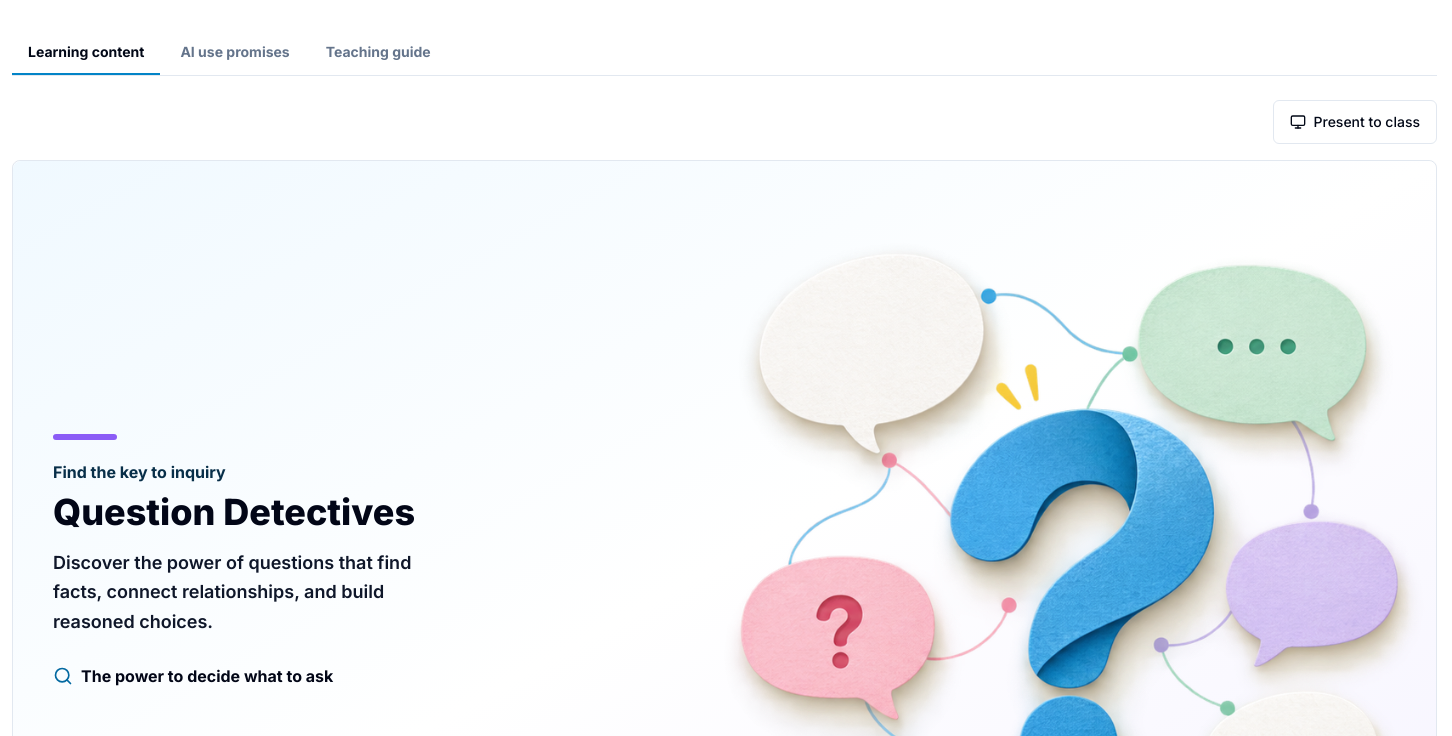
Scenario: 질문학습 슬라이드 › 영어 화면에서 여섯 수업 활용 항목의 제목과 본문을 영어로 표시한다
This screenshot has width=1452, height=736.
Click the tab "Teaching guide": click(378, 53) [310,31,447,75]
(page scrolled)
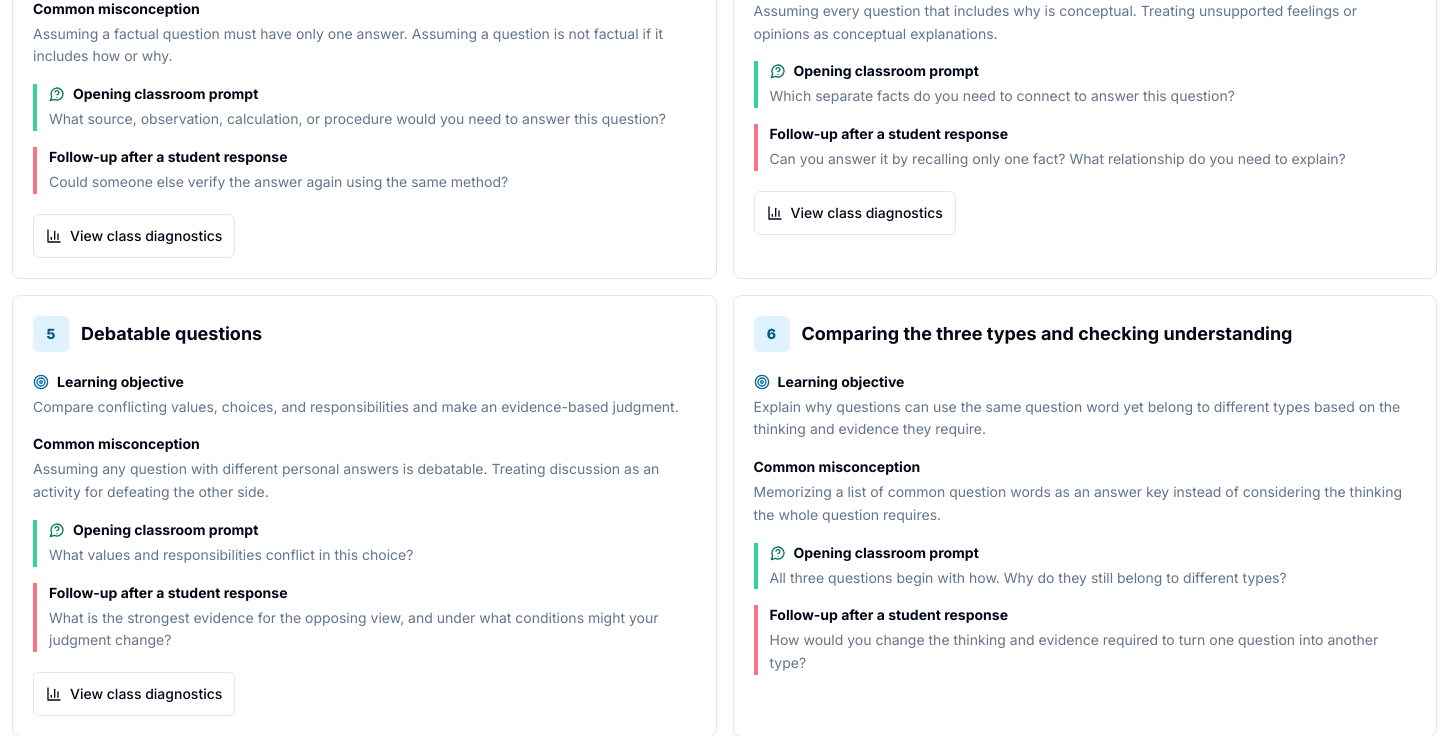
Check: the heading "Debatable questions" is shown, box [81,316,262,348]
Check: the heading "Comparing the three types and checking understanding" is shown, box [802,316,1292,348]
